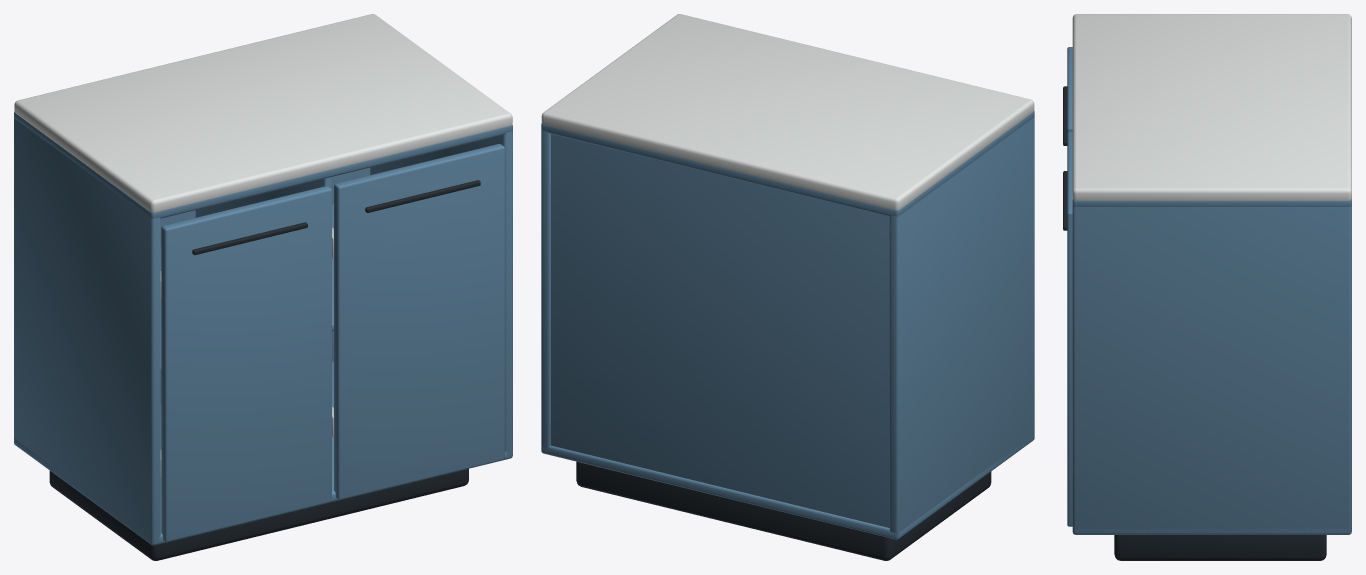
File: navy-base-cabinet.glb
3 views of the same model, side by side, from view 1: azimuth 30°, elevation 25°; view 2: azimuth 150°, elevation 25°; view 3: azimuth 270°, elevation 25° (orthographic).
Parts seen in each view (by area): view 1: navy-base-cabinet; view 2: navy-base-cabinet; view 3: navy-base-cabinet.
Part boxes in pixels (x1,y1,x2,y2): navy-base-cabinet: [14, 14, 512, 560]; navy-base-cabinet: [541, 14, 1034, 560]; navy-base-cabinet: [1063, 14, 1351, 560].
Size of the model in its own units: 0.9 by 0.91 by 0.62.
